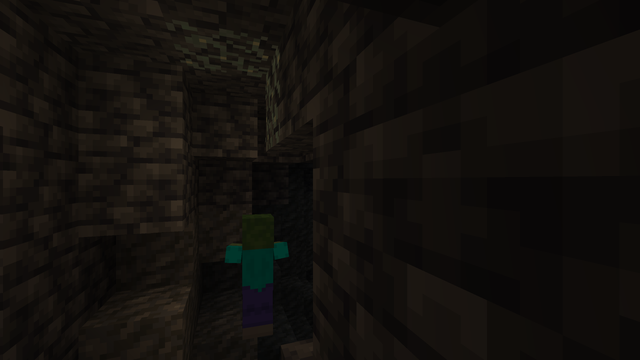zombies: (238, 216, 277, 347)
